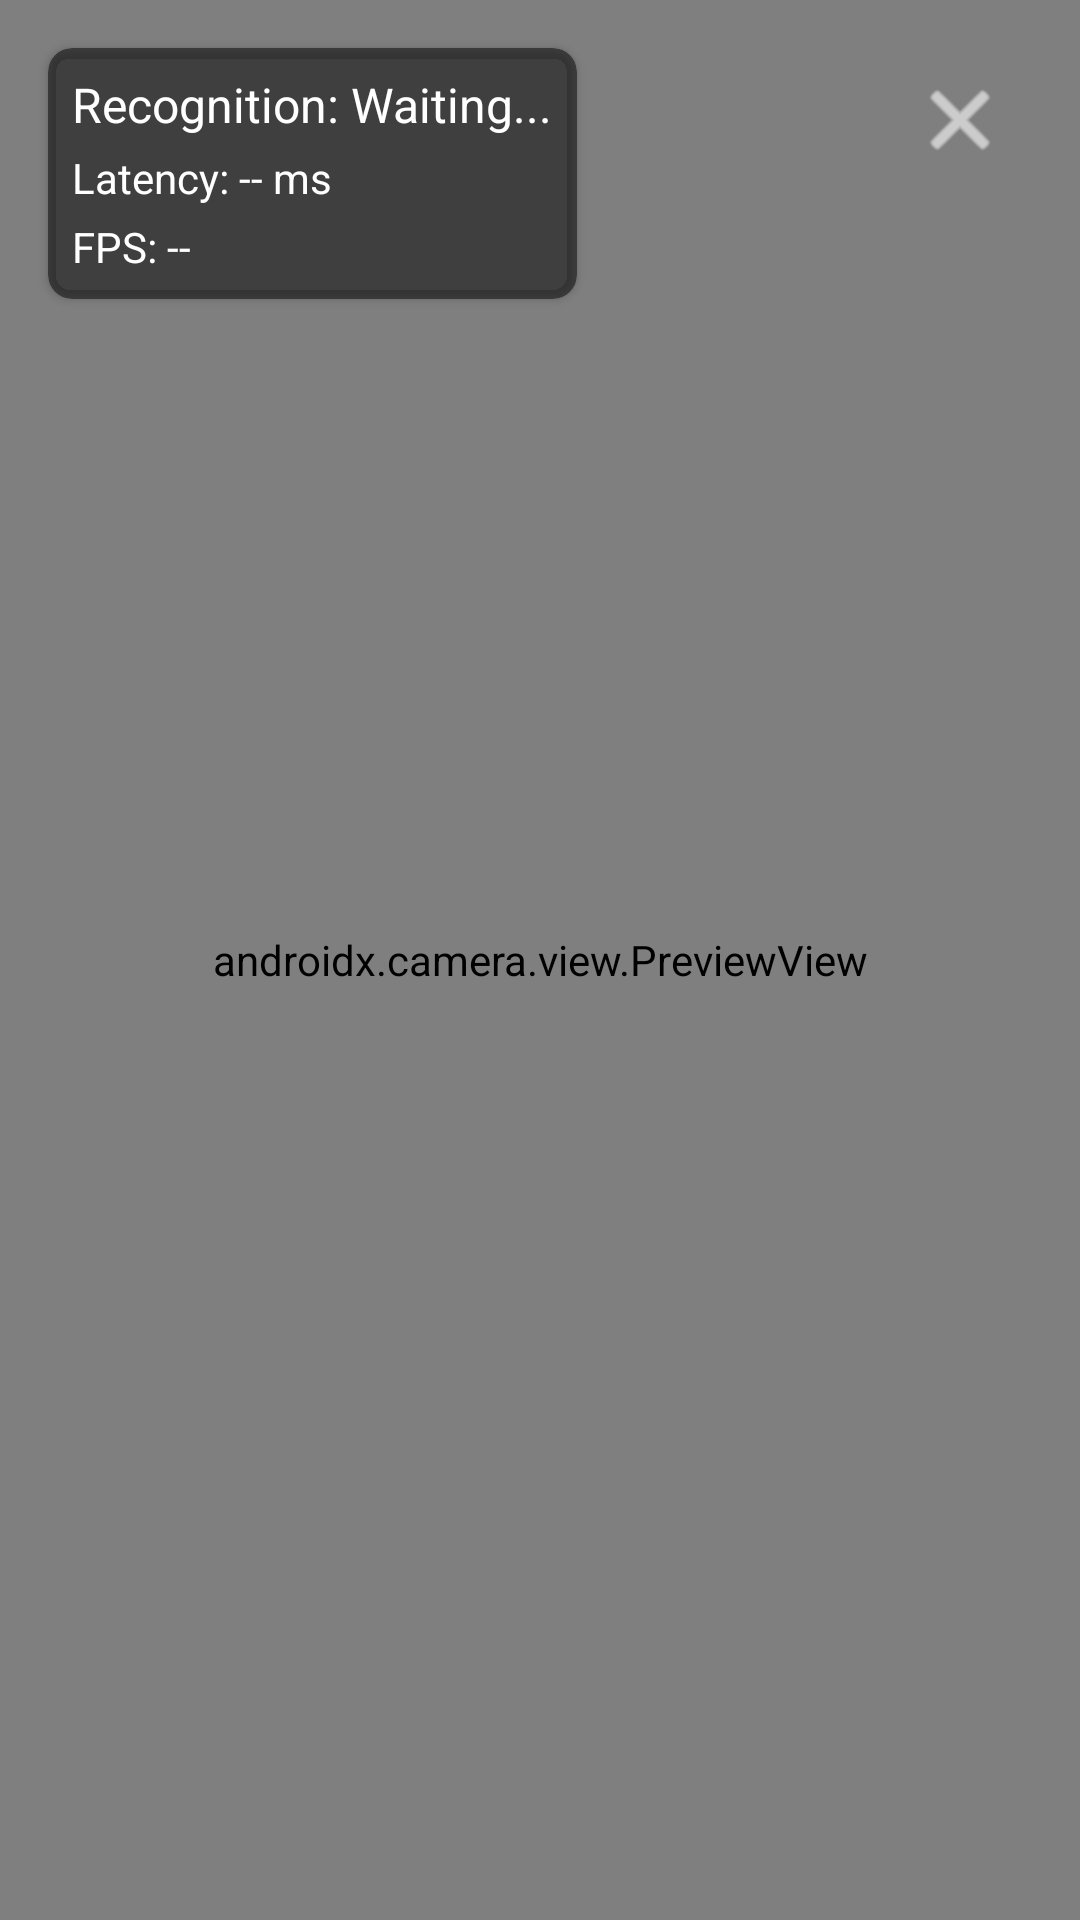

Icon bounding boxes for this 1080x1920 phone screenshot, format [x1, y1, x2, y2]:
close clear cancel: [930, 90, 990, 150]
